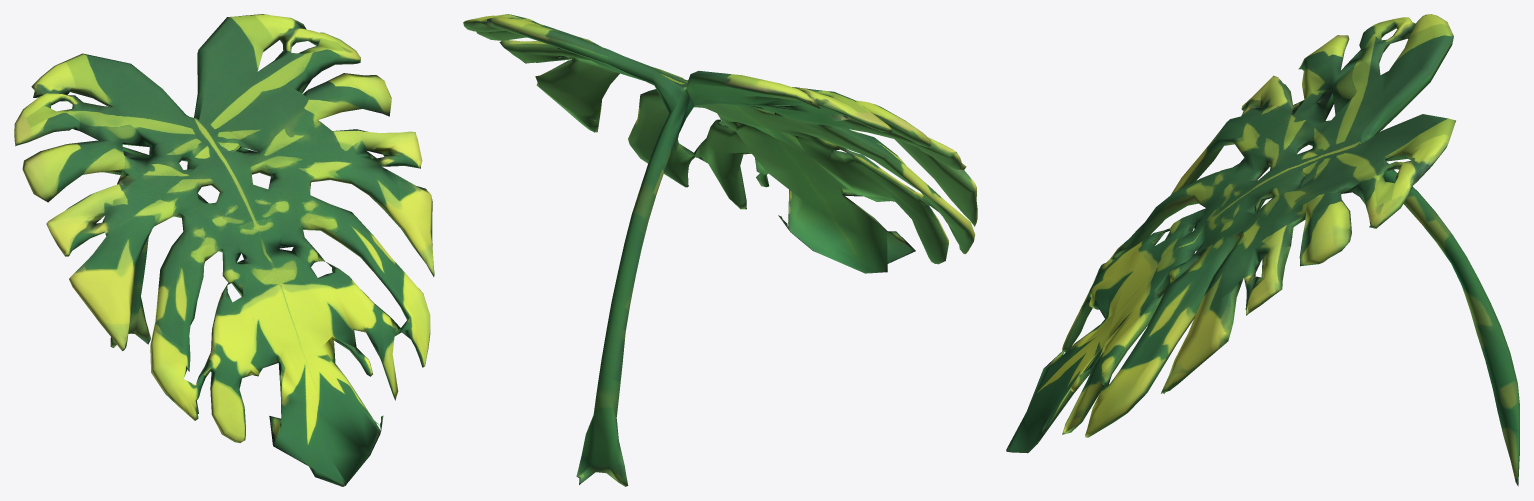
Rendered from T2_monstera_meshy5_1500.glb.
3 views of the same model, side by side, from view 1: azimuth 30°, elevation 25°; view 2: azimuth 150°, elevation 25°; view 3: azimuth 270°, elevation 25° (orthographic). The views are drawn at different scales.
Size of the model in its own units: 1.98 by 1.72 by 2.
Materials: 1 (1 with a texture image).
